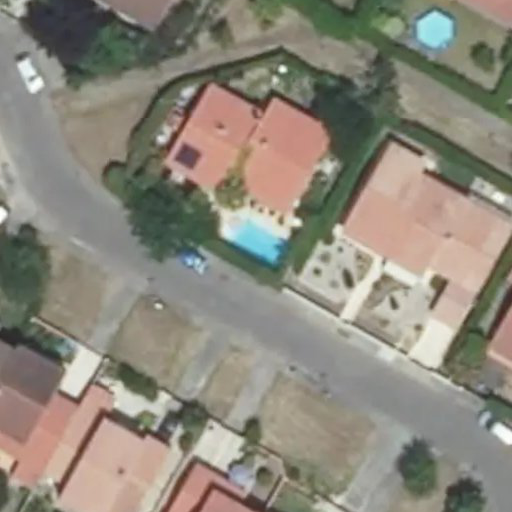pool: (219, 235, 286, 243)
